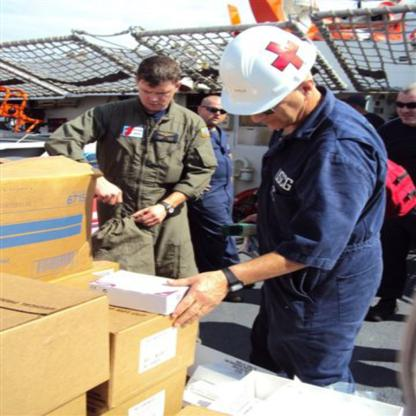Helmet: (214, 21, 328, 126)
